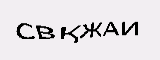А: (75, 23, 91, 46), (108, 27, 126, 47)
И: (60, 19, 73, 39)
Н: (92, 24, 106, 44)
Ч: (42, 17, 55, 39)
